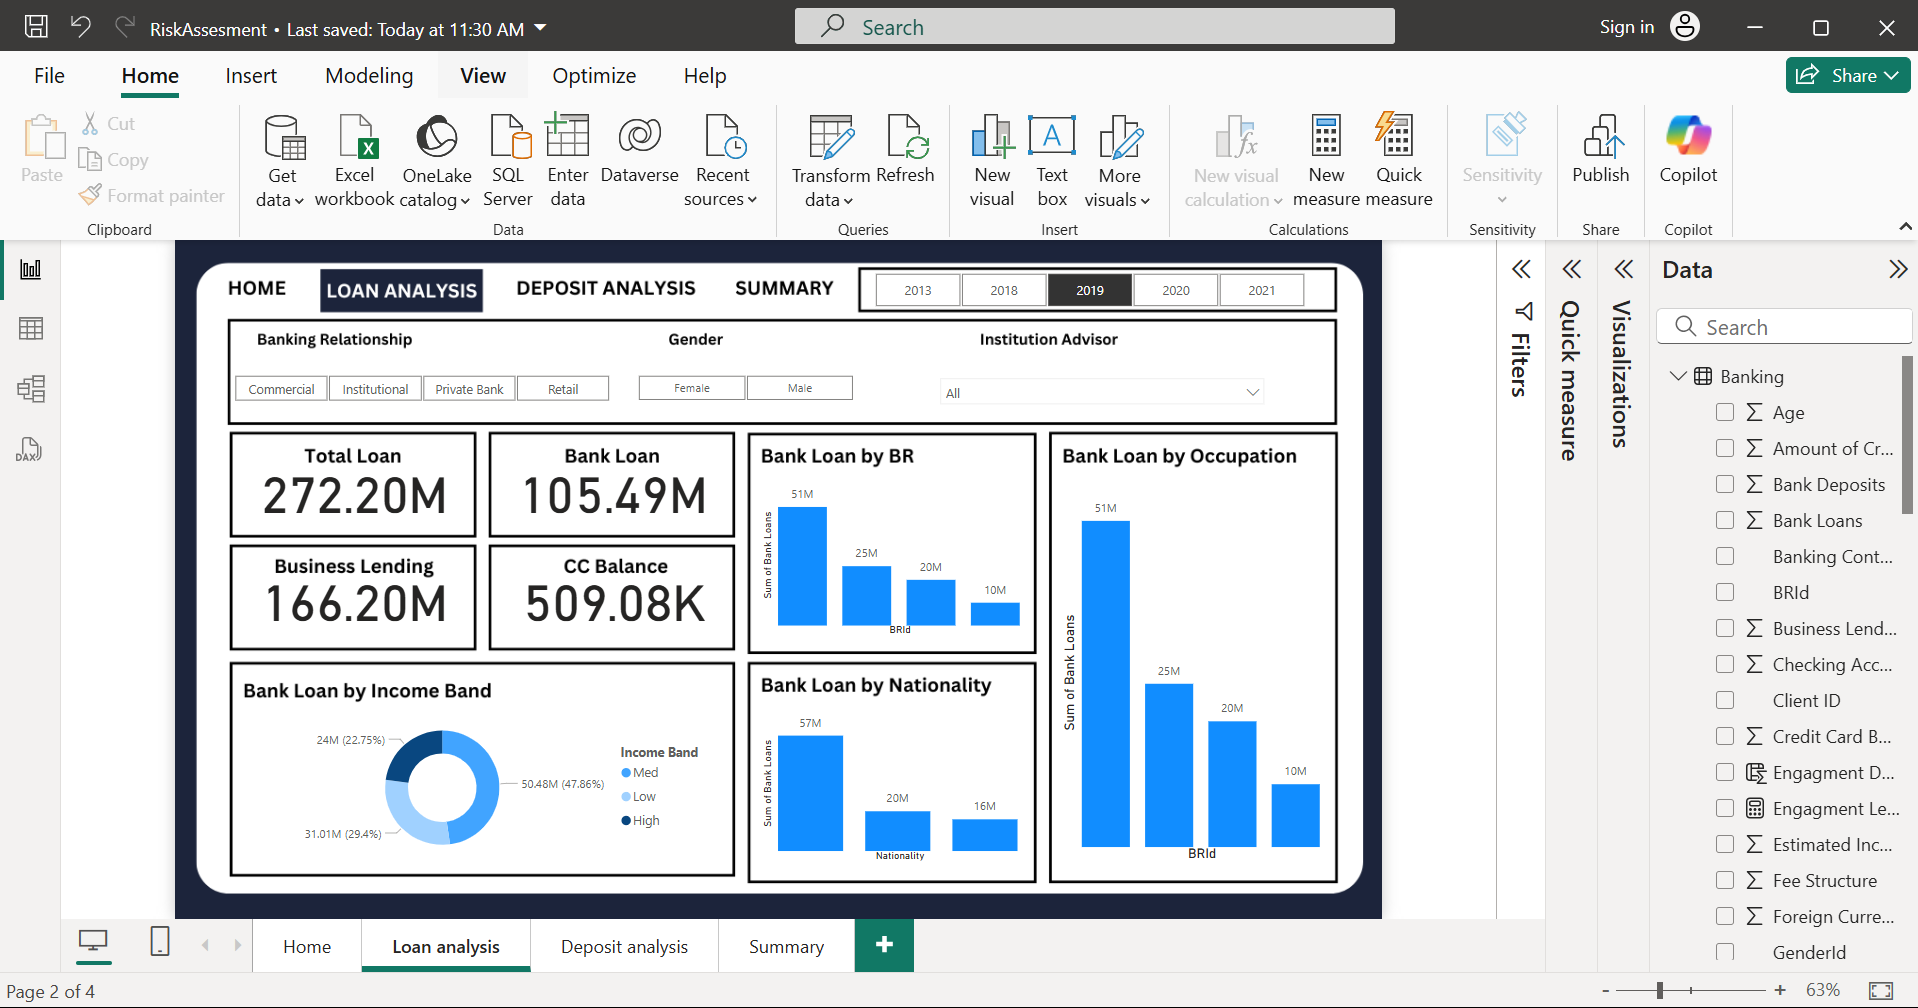

The page's visual inventory and layout, read from the dashboard file:
{"tool":"powerbi","page":{"name":"Loan analysis","canvas":[1280,720],"ordinal":1},"visuals":[{"type":"slicer","fields":{"Values":["Banking.Year of Joining"]},"box":[717.3,28.8,503.8,48.1],"z":0},{"type":"actionButton","box":[38.5,28.8,100,40.4],"z":1000},{"type":"actionButton","box":[353.8,28.8,201.9,40.4],"z":2000},{"type":"actionButton","box":[576.9,28.8,140.4,40.4],"z":3000},{"type":"card","fields":{"Values":["Banking.Total Loan"]},"box":[67.3,244.2,246.2,57.7],"z":4000},{"type":"card","fields":{"Values":["Sum(Banking.Bank Loans)"]},"box":[353.8,244.2,223.1,57.7],"z":5000},{"type":"card","fields":{"Values":["Sum(Banking.Business Lending)"]},"box":[67.3,359.6,246.2,57.7],"z":6000},{"type":"card","fields":{"Values":["Sum(Banking.Credit Card Balance)"]},"box":[342.3,359.6,246.2,57.7],"z":7000},{"type":"donutChart","fields":{"Category":["Banking.Income Band"],"Y":["Sum(Banking.Bank Loans)"]},"box":[88.5,498.1,488.5,165.4],"z":8000},{"type":"clusteredColumnChart","fields":{"Category":["Banking.BRId"],"Y":["Sum(Banking.Bank Loans)"]},"box":[617.3,244.2,286.5,178.8],"z":9000},{"type":"clusteredColumnChart","fields":{"Category":["Banking.Nationality"],"Y":["Sum(Banking.Bank Loans)"]},"box":[617.3,490.4,286.5,173.1],"z":10000},{"type":"clusteredColumnChart","fields":{"Category":["Banking.BRId"],"Y":["Sum(Banking.Bank Loans)"]},"box":[934.6,259.6,286.5,403.8],"z":11000},{"type":"slicer","fields":{"Values":["Banking.BRId"]},"box":[38.5,136.5,446.2,38.5],"z":12000},{"type":"slicer","fields":{"Values":["Banking.GenderId"]},"box":[465.4,136.5,276.9,38.5],"z":13000},{"type":"slicer","fields":{"Values":["Banking.IAId"]},"box":[801.9,136.5,363.5,38.5],"z":14000}]}

Visuals, with their boxes on the page's 1280x720 design canvas (x1, y1, x2, y2). These are canvas units, not pixel positions in the 1918x1008 screenshot, which may show the page scaled, cropped or inside an application window:
slicer - Banking.Year of Joining: locate(717, 29, 1221, 77)
actionButton: locate(38, 29, 138, 69)
actionButton: locate(354, 29, 556, 69)
actionButton: locate(577, 29, 717, 69)
card - Banking.Total Loan: locate(67, 244, 314, 302)
card - Sum(Banking.Bank Loans): locate(354, 244, 577, 302)
card - Sum(Banking.Business Lending): locate(67, 360, 314, 417)
card - Sum(Banking.Credit Card Balance): locate(342, 360, 588, 417)
donutChart - Banking.Income Band x Sum(Banking.Bank Loans): locate(88, 498, 577, 664)
clusteredColumnChart - Banking.BRId x Sum(Banking.Bank Loans): locate(617, 244, 904, 423)
clusteredColumnChart - Banking.Nationality x Sum(Banking.Bank Loans): locate(617, 490, 904, 664)
clusteredColumnChart - Banking.BRId x Sum(Banking.Bank Loans): locate(935, 260, 1221, 663)
slicer - Banking.BRId: locate(38, 136, 485, 175)
slicer - Banking.GenderId: locate(465, 136, 742, 175)
slicer - Banking.IAId: locate(802, 136, 1165, 175)
